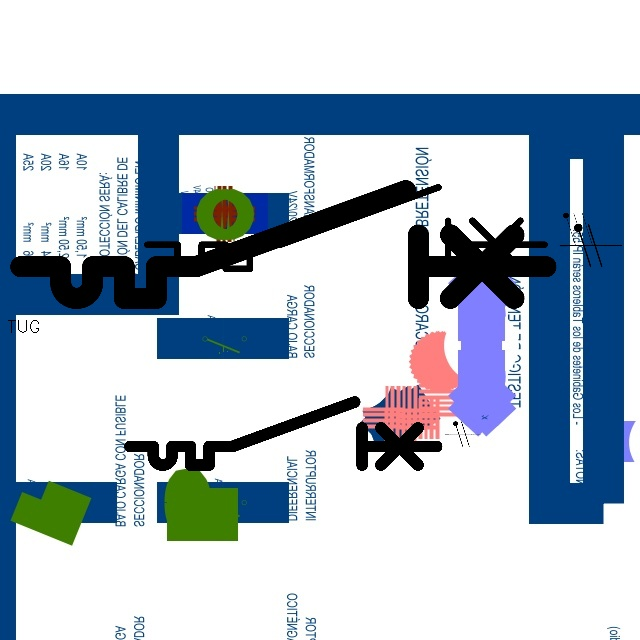interruptor_termomagnetico: (7, 177, 559, 312), (137, 177, 555, 279), (122, 394, 444, 473)
